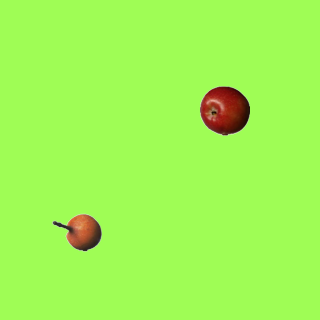Apple Braeburn: (199, 85, 249, 135)
Granadilla: (51, 207, 101, 257)
